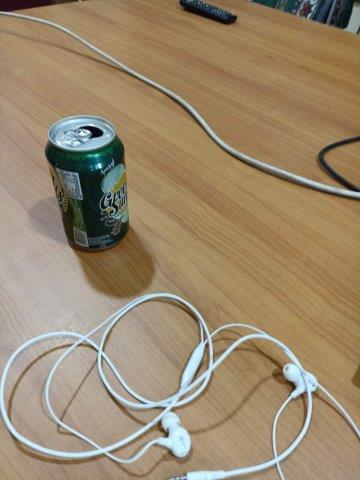kaleng: (46, 114, 129, 254)
